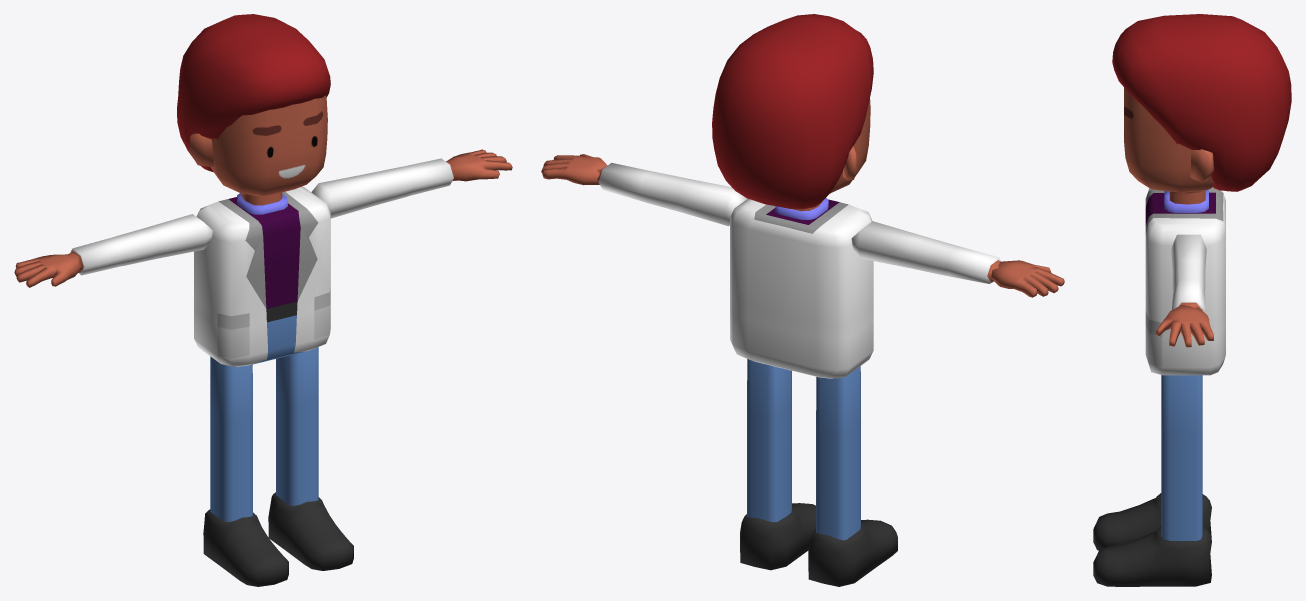
Rendered from NPC_Black01_RedHair04.gltf.
3 views of the same model, side by side, from view 1: azimuth 30°, elevation 25°; view 2: azimuth 150°, elevation 25°; view 3: azimuth 270°, elevation 25° (orthographic). The views are drawn at different scales.
Parts seen in each view (by area): view 1: NPC_Corpo_Black1_RedHair.004; view 2: NPC_Corpo_Black1_RedHair.004; view 3: NPC_Corpo_Black1_RedHair.004.
Boxes of the visible parts, box(x1,y1,x2,y2) form: NPC_Corpo_Black1_RedHair.004: box(14, 14, 512, 586); NPC_Corpo_Black1_RedHair.004: box(541, 14, 1064, 586); NPC_Corpo_Black1_RedHair.004: box(1093, 14, 1291, 586).
Bounding box in the file's own units: 2.31 × 2.3 × 0.7742.
1 material, 1 textured.
